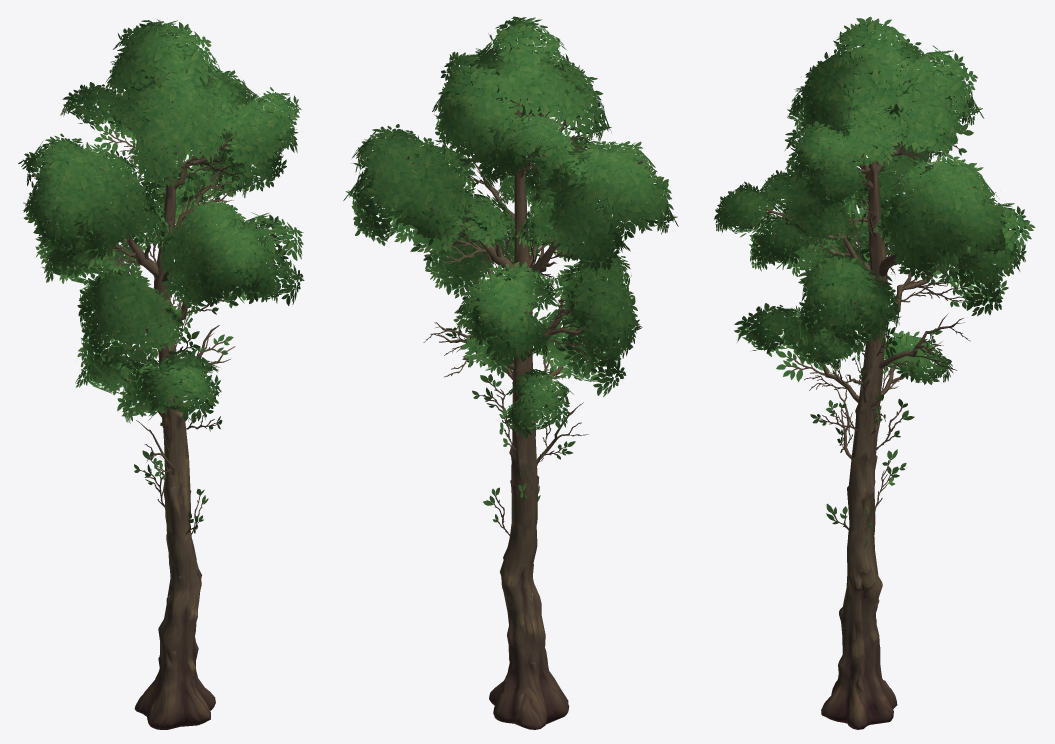
Rendered from SM_FW01_Tree_B_02.fbx.
3 renders of one model, left to right at view 1: azimuth 30°, elevation 25°; view 2: azimuth 150°, elevation 25°; view 3: azimuth 270°, elevation 25°, orthographic.
Parts seen in each view (by area): view 1: SM_FW01_Tree_B_02_LOD0; view 2: SM_FW01_Tree_B_02_LOD0; view 3: SM_FW01_Tree_B_02_LOD0.
Boxes of the visible parts, x1,y1,x2,y2 form: SM_FW01_Tree_B_02_LOD0: [18, 19, 304, 729]; SM_FW01_Tree_B_02_LOD0: [343, 16, 678, 729]; SM_FW01_Tree_B_02_LOD0: [714, 16, 1035, 729].
Size of what is drawn, in the model's own units: 5.6 by 13.21 by 5.6.
